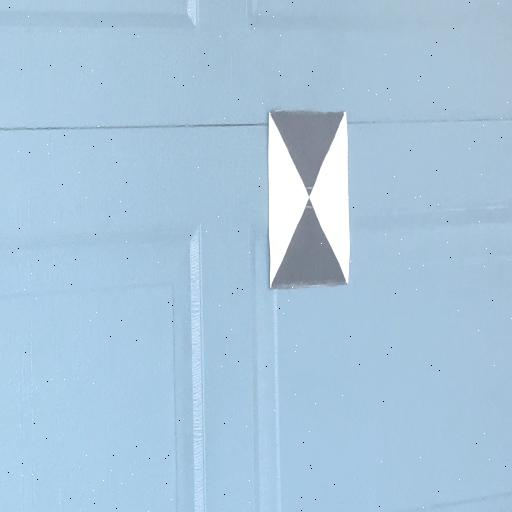target: (270, 110, 349, 284)
